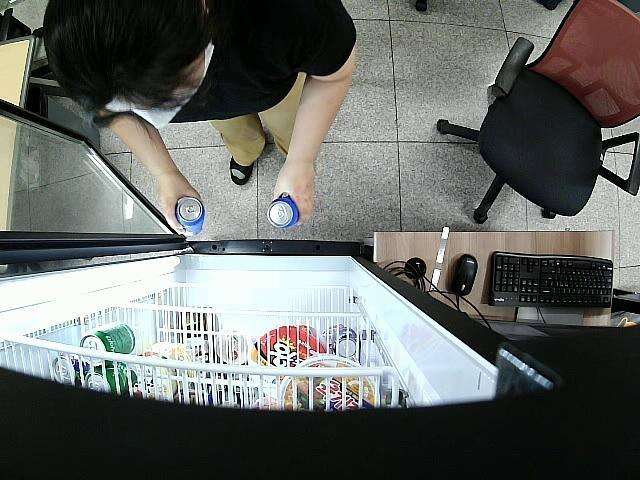13_pocariSweat: (174, 198, 203, 238), (266, 196, 300, 228)
